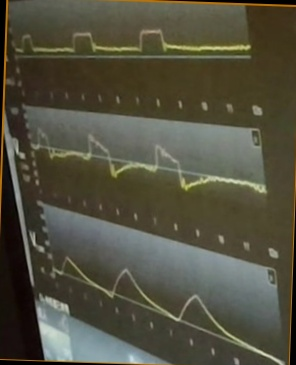Accumulation Flow: (33, 123, 264, 202)
Volume: (54, 255, 281, 362)
